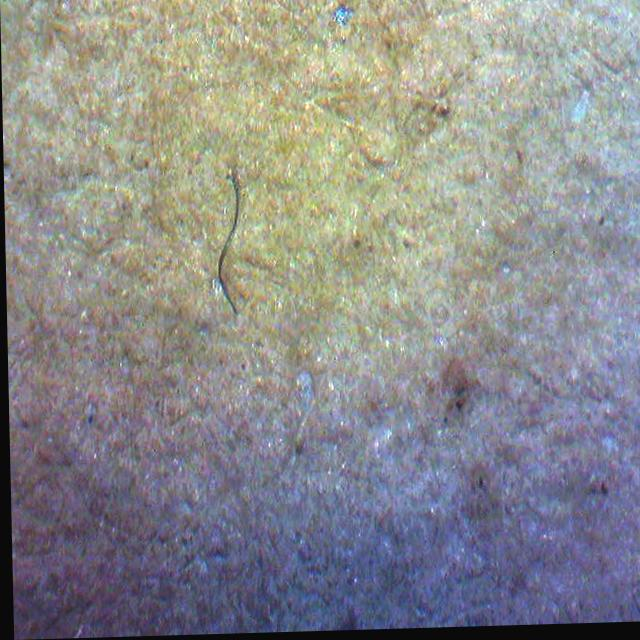microplastic: (214, 173, 239, 318)
